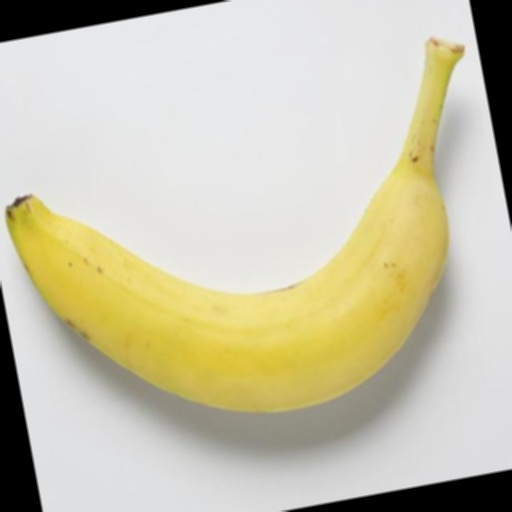fruit: (423, 2, 483, 131)
